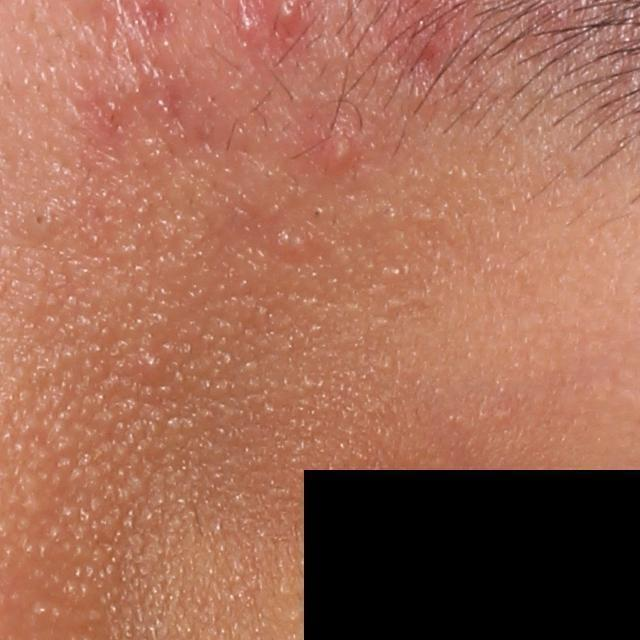comedo: (142, 346, 165, 375)
pustule: (327, 131, 356, 173), (235, 5, 257, 42)
